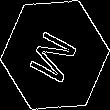M_SE: (25, 23, 85, 87)
